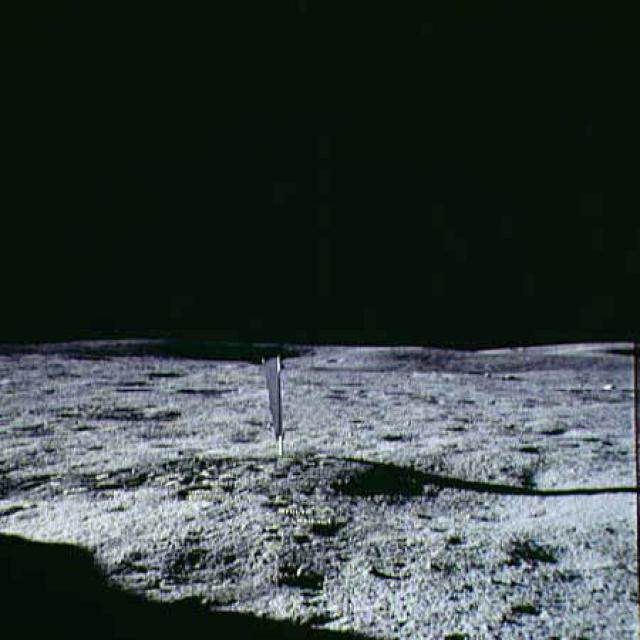crater: (308, 431, 638, 532), (482, 524, 618, 584)
